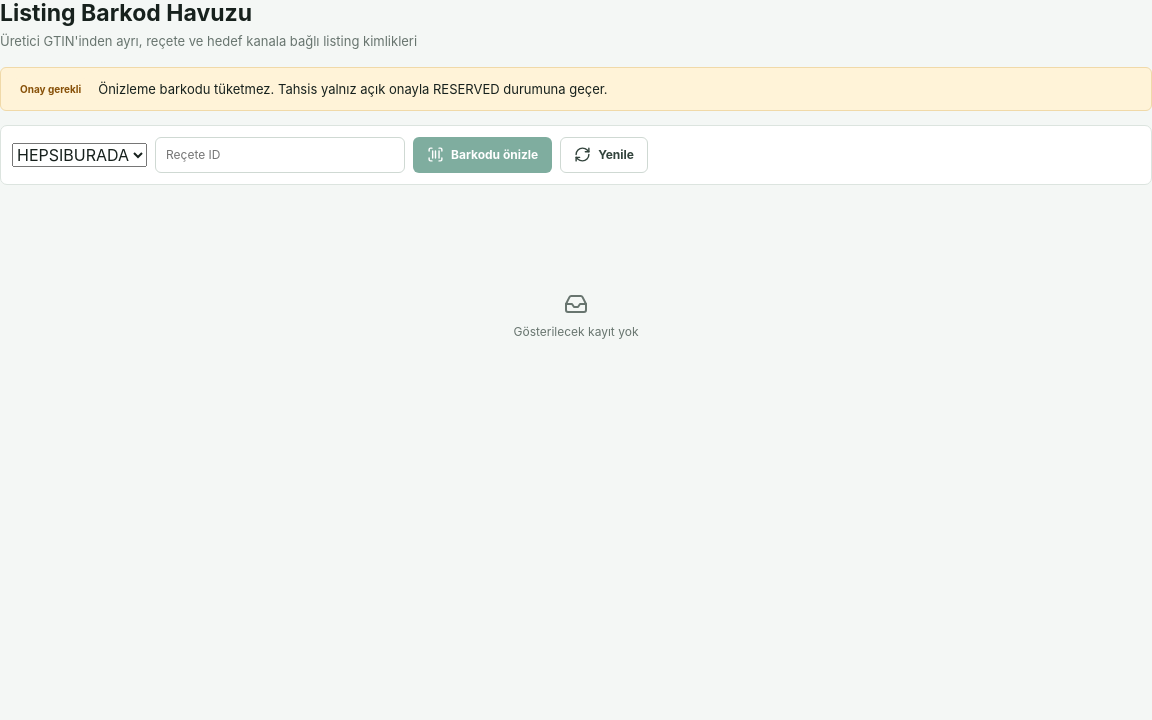
Merkezi PIM ekranları › listing barkodu önizlemesi tahsisten önce açık onay gösterir
In the number field with placeholder "Reçete ID": (280,155) [155,137,405,173], type "12"
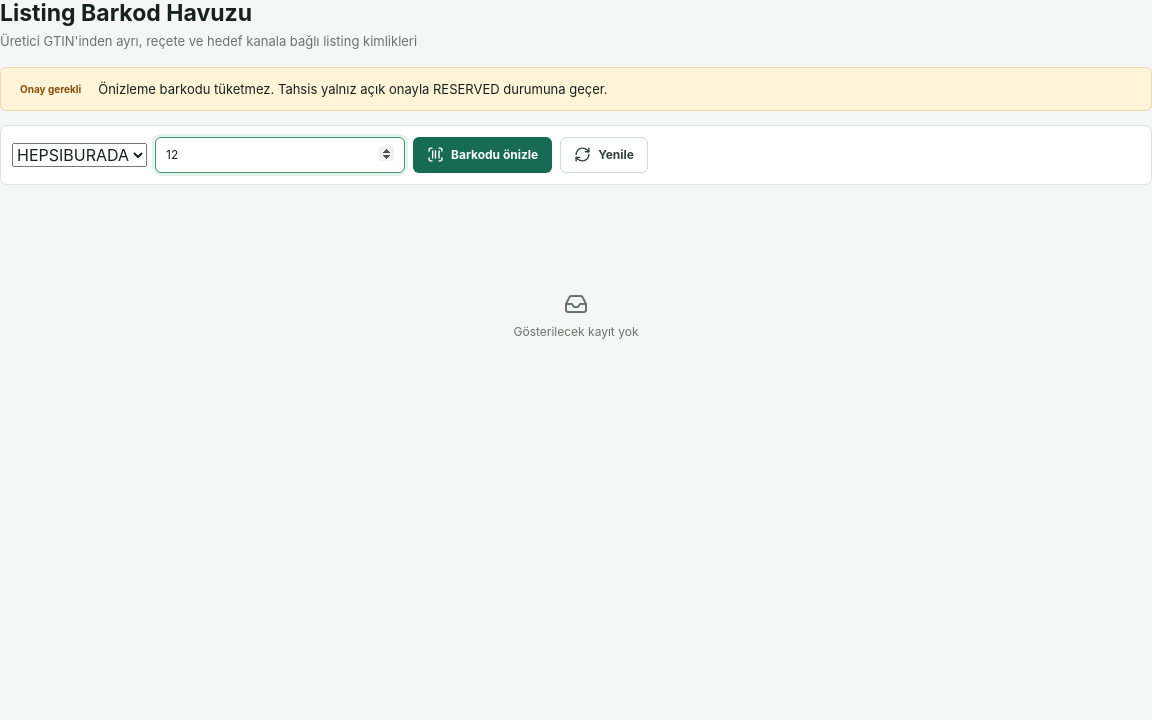
Click the button "Barkodu önizle": (483,155) [413,137,552,173]
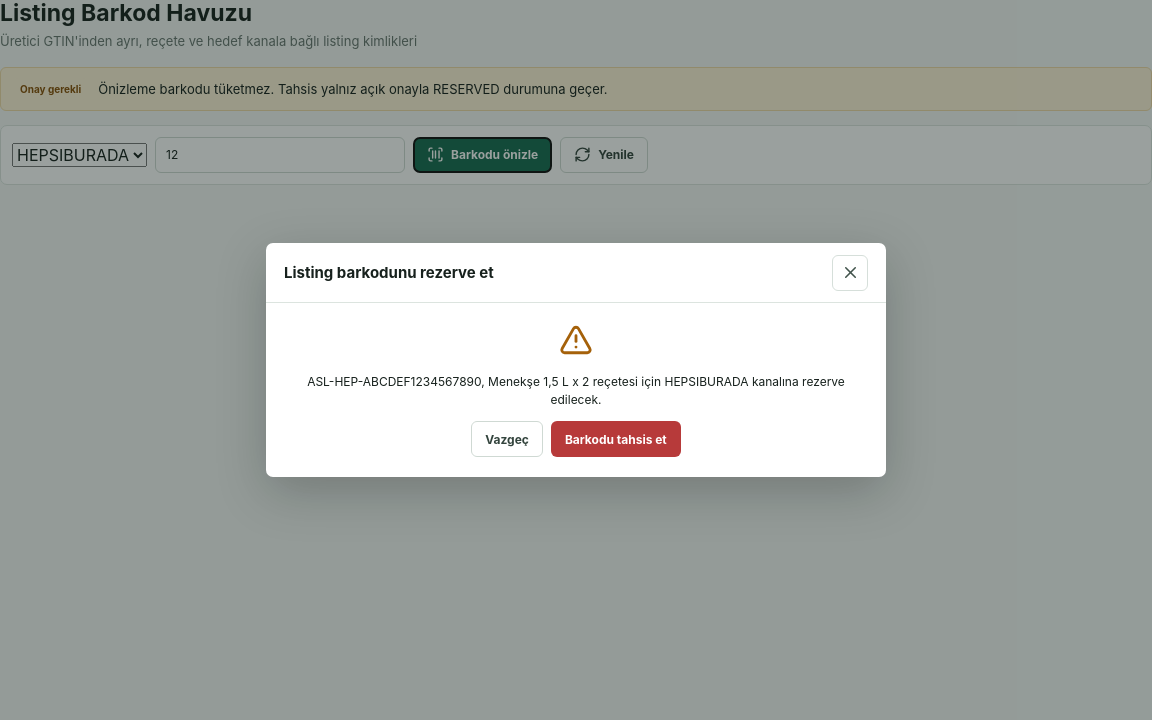
Result: the heading "Listing barkodunu rezerve et" is shown at [284,263,494,282]
Result: the text "ASL-HEP-ABCDEF1234567890" is shown at [307,374,845,407]
